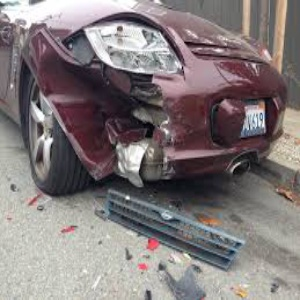bumper: (66, 103, 201, 190)
head_lights: (60, 10, 186, 80)
